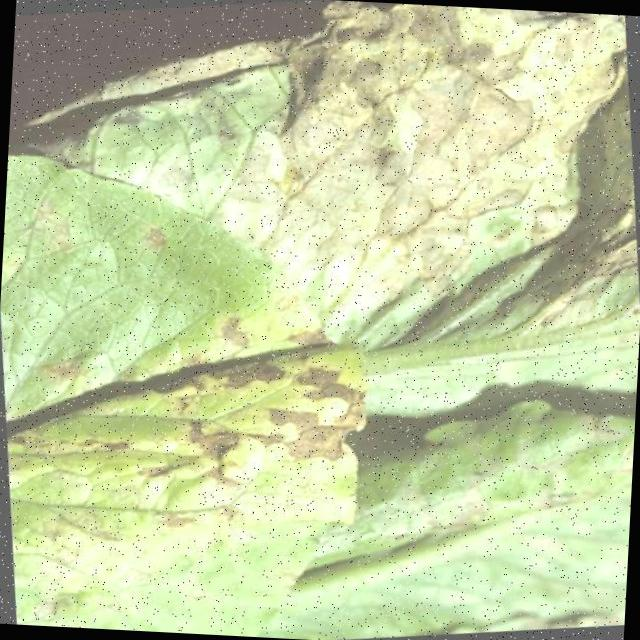Septoria_Blight: (0, 254, 383, 613), (331, 1, 640, 308)
